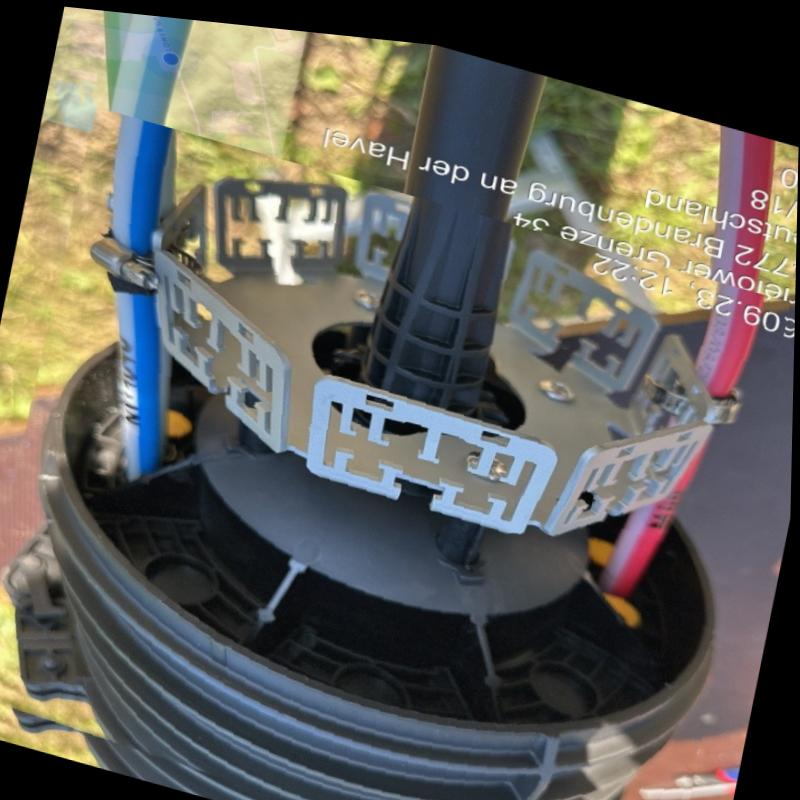NT-Muffen: (0, 161, 736, 800)
